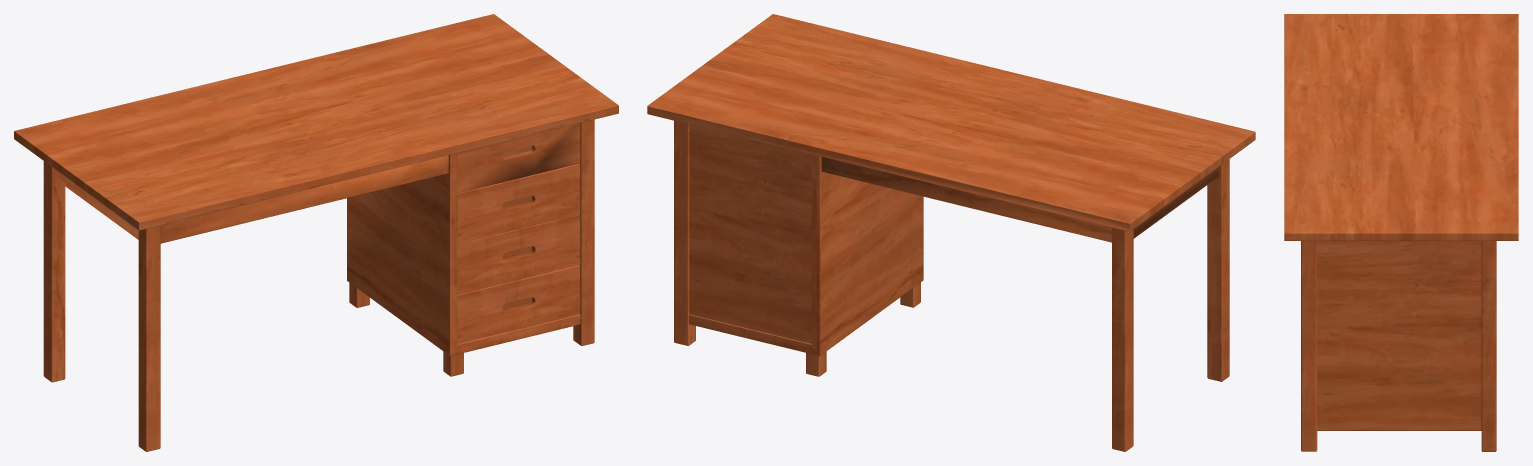
File: desk.glb
3 views of the same model, side by side, from view 1: azimuth 30°, elevation 25°; view 2: azimuth 150°, elevation 25°; view 3: azimuth 270°, elevation 25° (orthographic). The views are drawn at different scales.
Parts seen in each view (by area): view 1: desk.1; view 2: desk.1; view 3: desk.1.
Boxes of the visible parts, x1,y1,x2,y2 form: desk.1: (14, 14, 618, 451); desk.1: (647, 14, 1255, 451); desk.1: (1284, 14, 1518, 451).
Size of the model in its own units: 0.307 by 0.1472 by 0.1386.
Materials: 1 (1 with a texture image).
